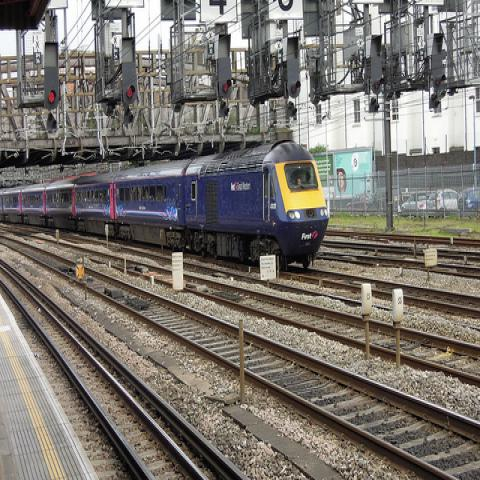car: (428, 189, 460, 211), (401, 192, 428, 210)
